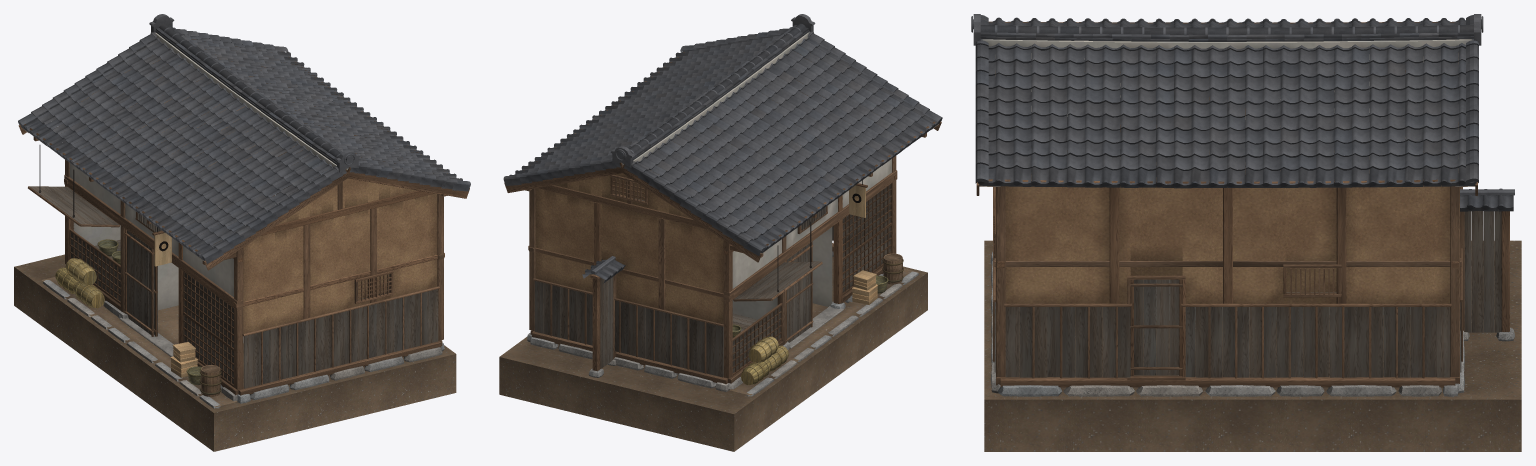
File: machiya_d.glb
The picture shows the model from 3 angles, left to right: view 1: azimuth 30°, elevation 25°; view 2: azimuth 150°, elevation 25°; view 3: azimuth 270°, elevation 25°; orthographic projection. The views are drawn at different scales.
Parts seen in each view (by area): view 1: machiya_d_tile_ibushi, machiya_d_earth_floor, machiya_d_wood_dark, machiya_d_plaster_earth, machiya_d_wood_weathered, machiya_d_stone_granite, machiya_d_plaster_white, machiya_d_plaster_white#0.8, machiya_d_straw, machiya_d_wood_fresh, machiya_d_straw#olive, machiya_d_tile_manju (+1 smaller); view 2: machiya_d_tile_ibushi, machiya_d_earth_floor, machiya_d_wood_dark, machiya_d_plaster_earth, machiya_d_wood_weathered, machiya_d_stone_granite, machiya_d_plaster_white, machiya_d_plaster_white#0.8, machiya_d_straw, machiya_d_wood_fresh, machiya_d_tile_manju, machiya_d_wood_aged; view 3: machiya_d_tile_ibushi, machiya_d_plaster_earth, machiya_d_earth_floor, machiya_d_wood_weathered, machiya_d_wood_dark, machiya_d_stone_granite, machiya_d_plaster_white, machiya_d_tile_manju.
Part boxes in pixels (<box>): machiya_d_tile_ibushi: <box>18,14,470,263</box>; machiya_d_earth_floor: <box>14,254,456,451</box>; machiya_d_wood_dark: <box>18,39,469,395</box>; machiya_d_plaster_earth: <box>81,49,437,333</box>; machiya_d_wood_weathered: <box>21,42,439,388</box>; machiya_d_stone_granite: <box>43,280,444,408</box>; machiya_d_plaster_white: <box>69,33,348,296</box>; machiya_d_plaster_white#0.8: <box>73,222,243,343</box>; machiya_d_straw: <box>55,258,104,308</box>; machiya_d_wood_fresh: <box>154,233,198,377</box>; machiya_d_straw#olive: <box>97,239,201,385</box>; machiya_d_tile_manju: <box>23,52,462,260</box>; machiya_d_tile_ibushi: <box>503,14,942,283</box>; machiya_d_earth_floor: <box>499,256,927,451</box>; machiya_d_wood_dark: <box>504,51,941,384</box>; machiya_d_plaster_earth: <box>535,53,846,324</box>; machiya_d_wood_weathered: <box>534,112,938,377</box>; machiya_d_stone_granite: <box>527,251,918,396</box>; machiya_d_plaster_white: <box>622,32,891,288</box>; machiya_d_plaster_white#0.8: <box>677,227,832,375</box>; machiya_d_straw: <box>740,336,788,384</box>; machiya_d_wood_fresh: <box>849,185,878,304</box>; machiya_d_tile_manju: <box>509,52,941,279</box>; machiya_d_wood_aged: <box>883,253,902,284</box>; machiya_d_tile_ibushi: <box>971,14,1514,211</box>; machiya_d_plaster_earth: <box>1005,93,1450,303</box>; machiya_d_earth_floor: <box>984,240,1521,451</box>; machiya_d_wood_weathered: <box>979,52,1501,377</box>; machiya_d_wood_dark: <box>976,21,1509,387</box>; machiya_d_stone_granite: <box>990,252,1514,396</box>; machiya_d_plaster_white: <box>982,39,1472,119</box>; machiya_d_tile_manju: <box>977,17,1504,210</box>.
Bounding box in the file's own units: 6.4 × 6.18 × 8.48.
Materials: 14 (12 with a texture image).
